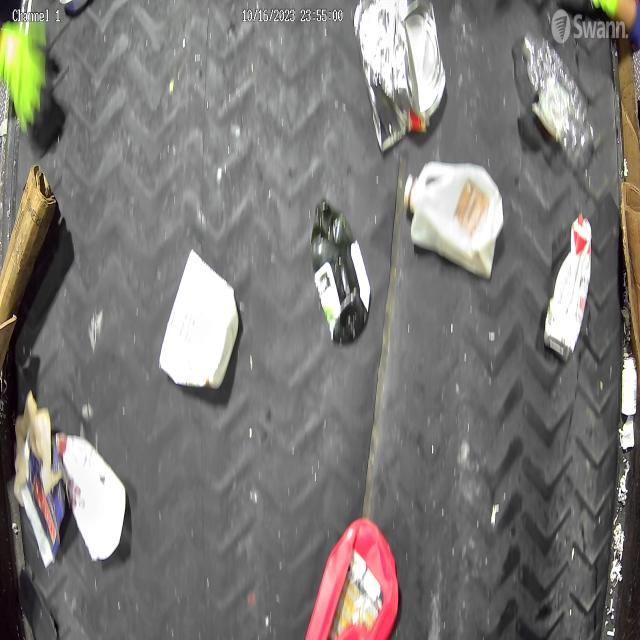can: (377, 0, 447, 122)
milk_jug: (402, 158, 504, 277)
non_white_jug: (310, 514, 403, 640), (544, 215, 592, 362)
plastic_bottle: (520, 34, 592, 160)
